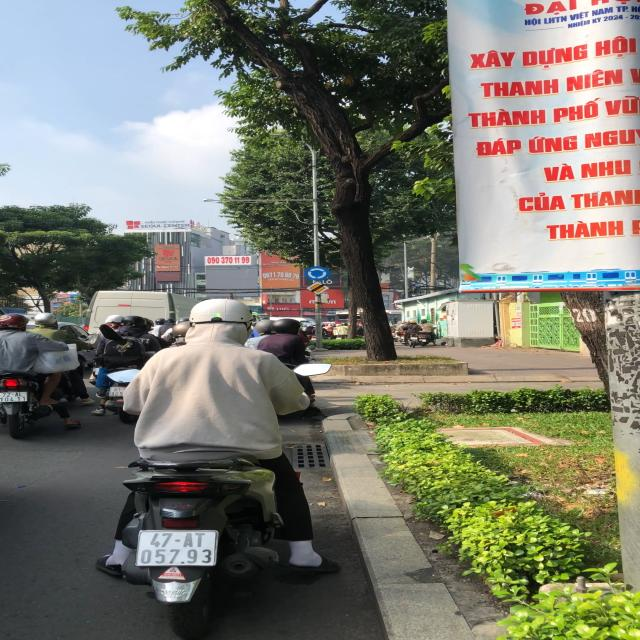Bien bao noi giao nhau chay theo vong xuyen: (302, 265, 330, 280)
